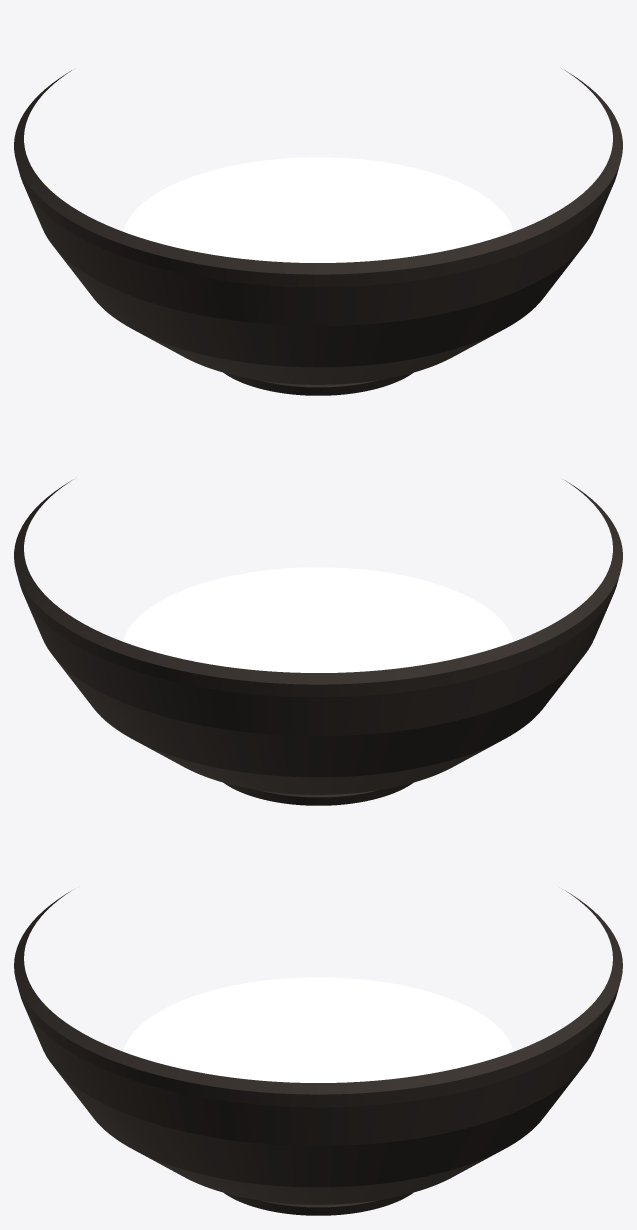
Rendered from wesync-ember-vessel.glb.
3 renders of one model, top to bottom at view 1: azimuth 30°, elevation 25°; view 2: azimuth 150°, elevation 25°; view 3: azimuth 270°, elevation 25°, orthographic.
Visible parts, largest first — view 1: vessel_outer, molten_core; view 2: vessel_outer, molten_core; view 3: vessel_outer, molten_core.
Part boxes in pixels (x1,y1,x2,y2): vessel_outer: (14,70,622,395); molten_core: (123,157,513,262); vessel_outer: (14,480,622,805); molten_core: (123,567,513,672); vessel_outer: (14,890,622,1215); molten_core: (123,977,513,1082).
Bounding box in the file's own units: 0.304 × 0.116 × 0.304.
